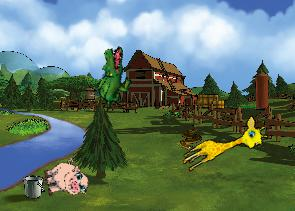crocodile: (87, 44, 138, 111)
giraffe: (178, 112, 271, 182)
pig: (40, 156, 90, 203)
